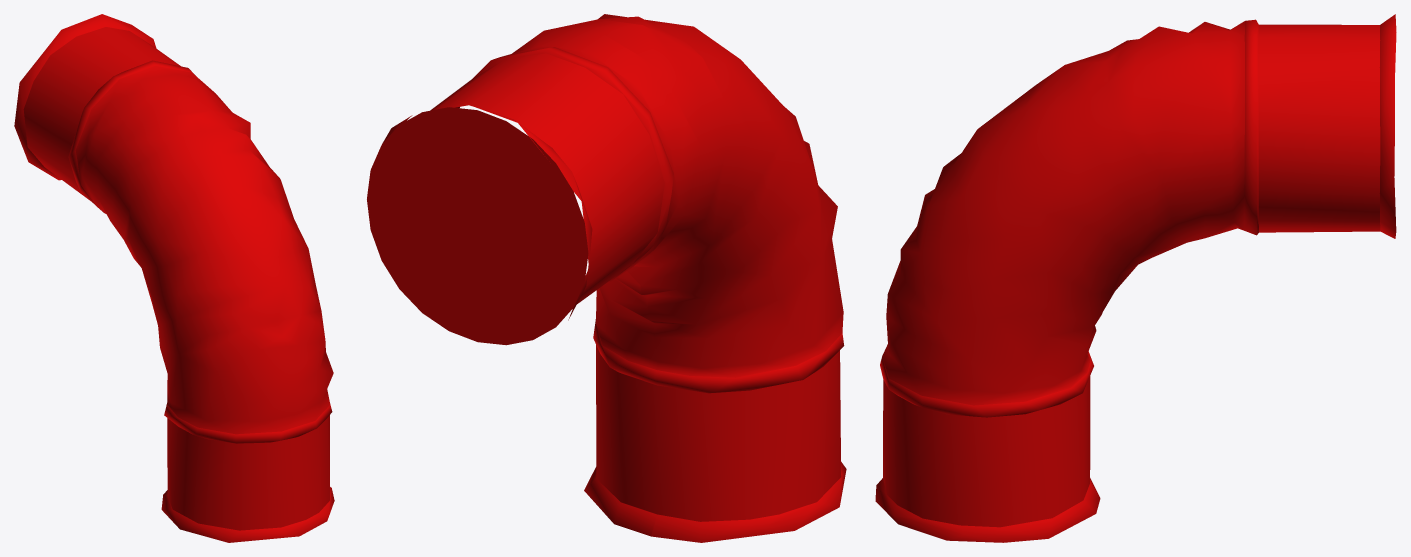
3 views of the same model, side by side, from view 1: azimuth 30°, elevation 25°; view 2: azimuth 150°, elevation 25°; view 3: azimuth 270°, elevation 25° (orthographic). The views are drawn at different scales.
Parts seen in each view (by area): view 1: Mesh; view 2: Mesh; view 3: Mesh.
Part boxes in pixels (<box>): Mesh: <box>14,14,334,542</box>; Mesh: <box>367,14,846,542</box>; Mesh: <box>875,14,1396,542</box>.
Bounding box in the file's own units: 0.4302 × 1.01 × 1.01.
